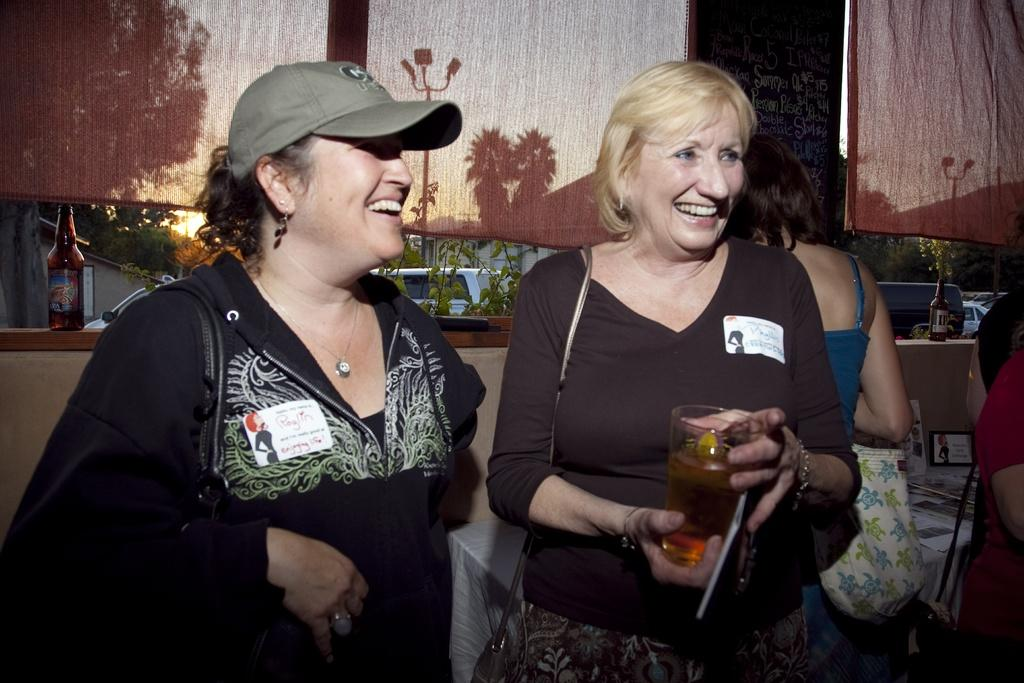Hat: (225, 56, 462, 184)
